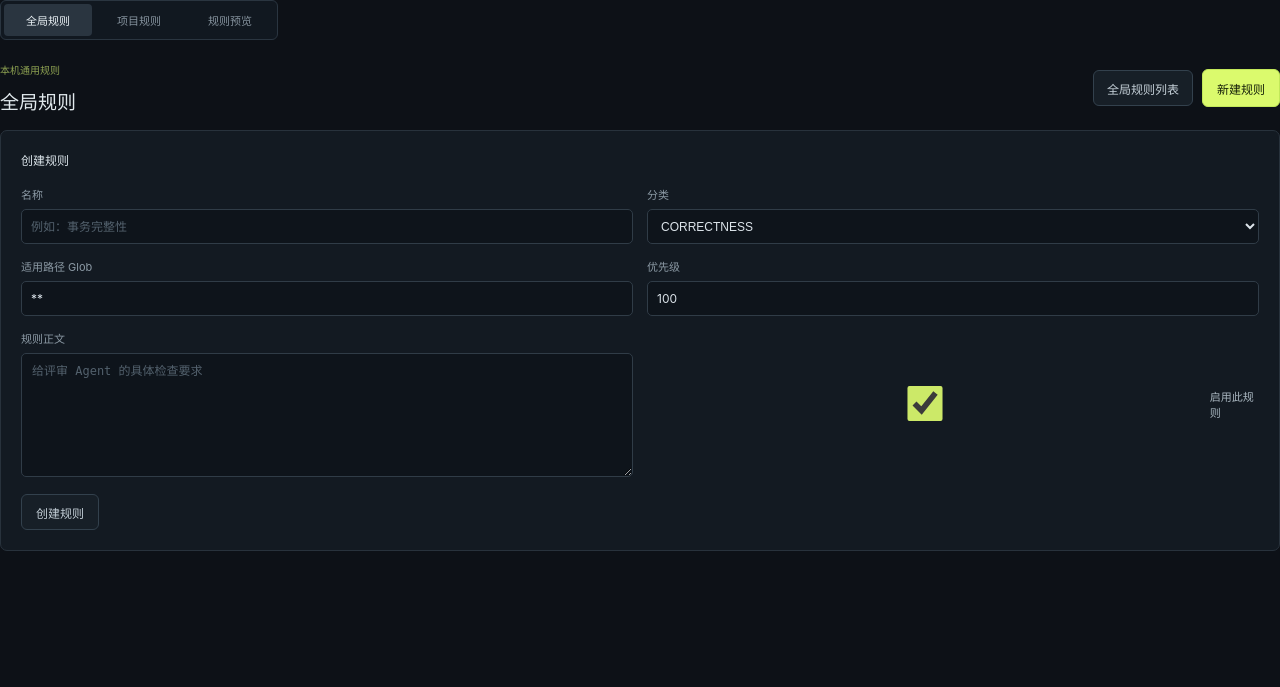
RuleCenter › shows enabled global rules as read-only inherited rules for the selected project
Step 1. Click the button "项目规则" → (139, 20), box [95,4,183,36]
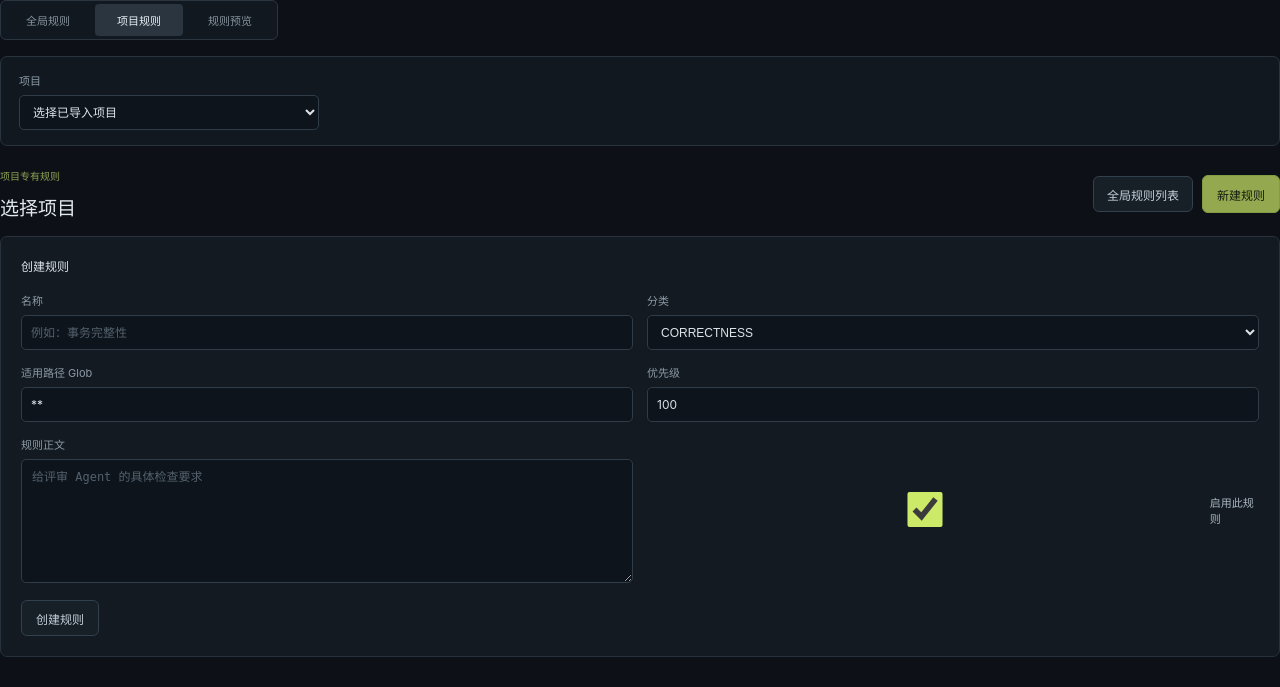
Step 2. Select "store" in the dropdown with test id "rule-project-select" → (169, 112), box [19,95,319,130]
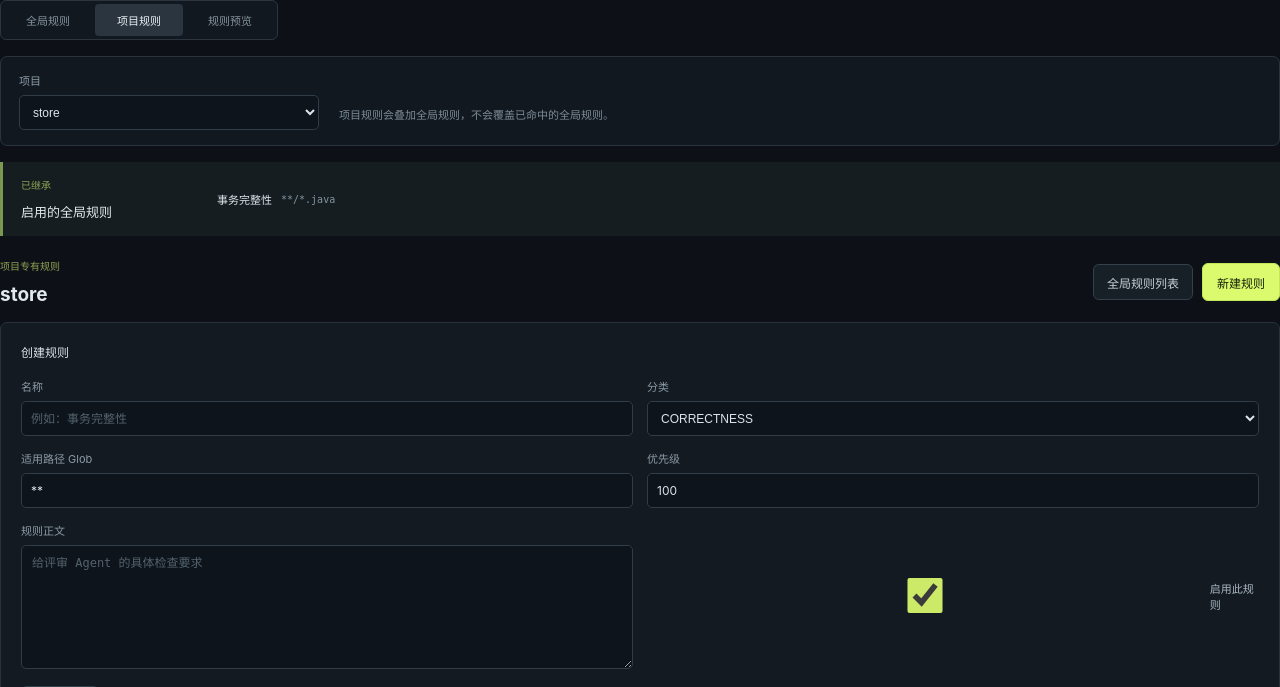
Check: the element with test id "inherited-global-rules" shows "事务完整性", box [217,193,272,207]
